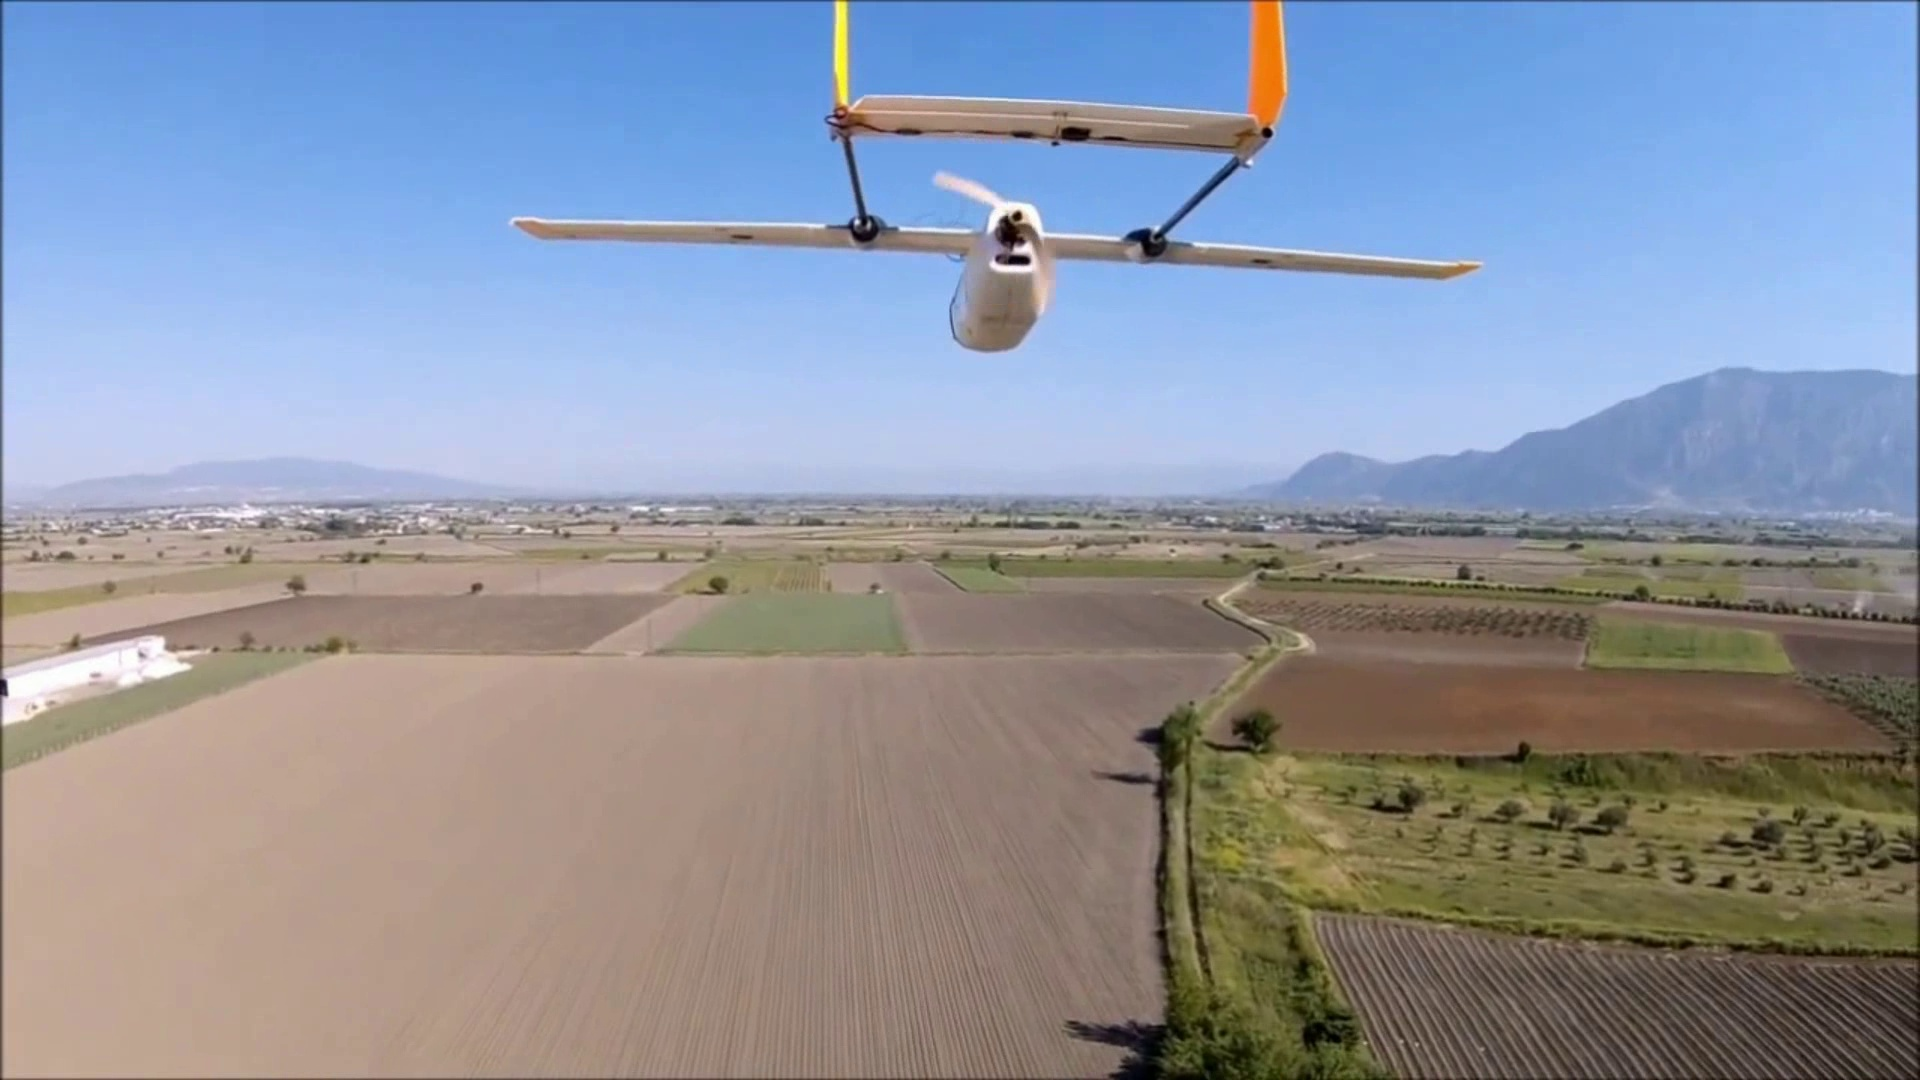airplane: (514, 5, 1480, 353)
